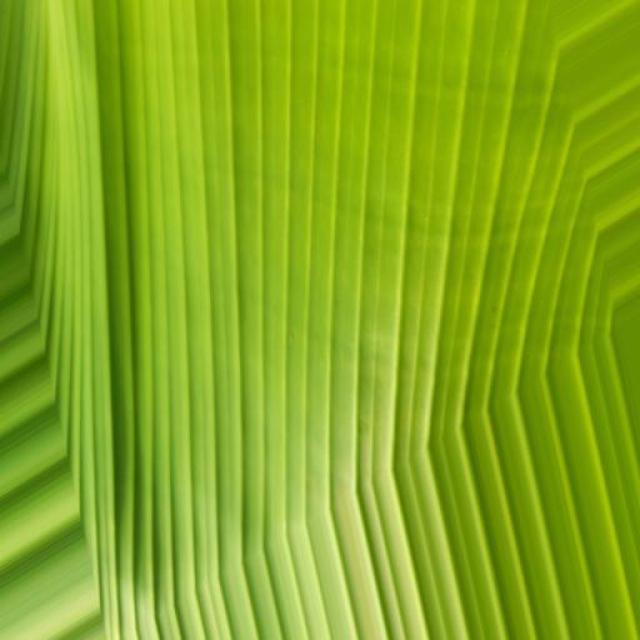Black_leaf_spot: (47, 0, 640, 625)
